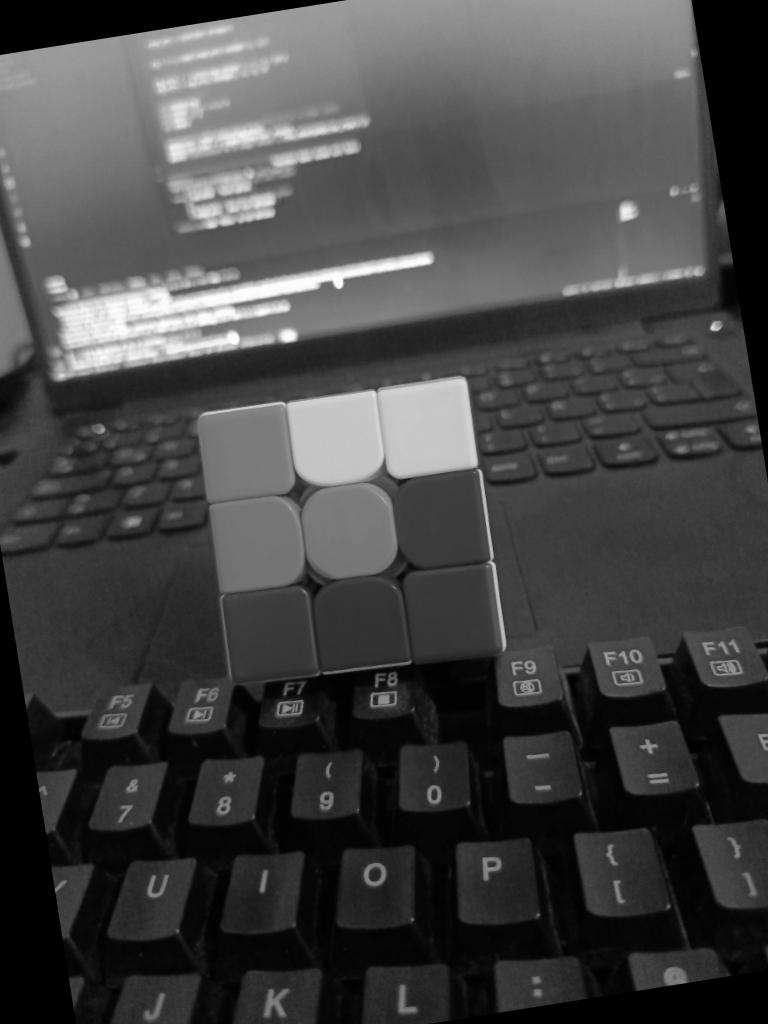rubik: (186, 368, 512, 695)
